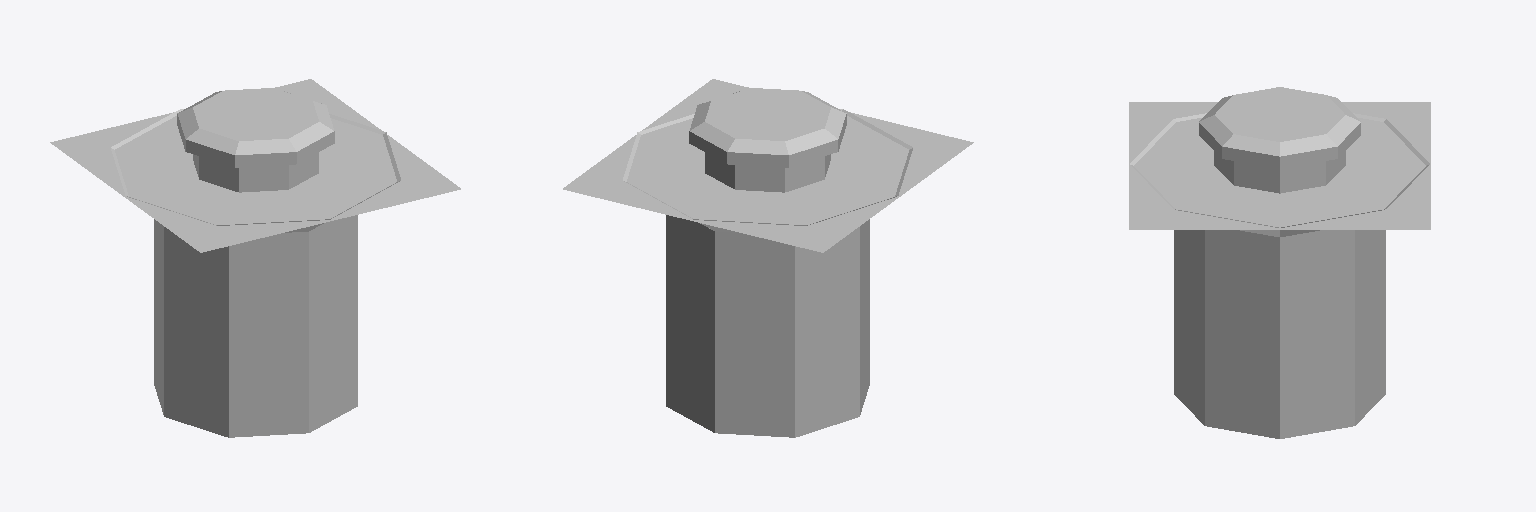
Rendered from cityTrashCan.obj.
3 renders of one model, left to right at view 1: azimuth 30°, elevation 25°; view 2: azimuth 150°, elevation 25°; view 3: azimuth 270°, elevation 25°, orthographic.
Visible parts, largest first — view 1: Cylinder; view 2: Cylinder; view 3: Cylinder.
Part boxes in pixels (bbox=[...]): Cylinder: bbox=[50, 79, 460, 437]; Cylinder: bbox=[563, 79, 973, 437]; Cylinder: bbox=[1129, 87, 1430, 438].
Size of the model in its own units: 2.28 by 2.35 by 2.28.